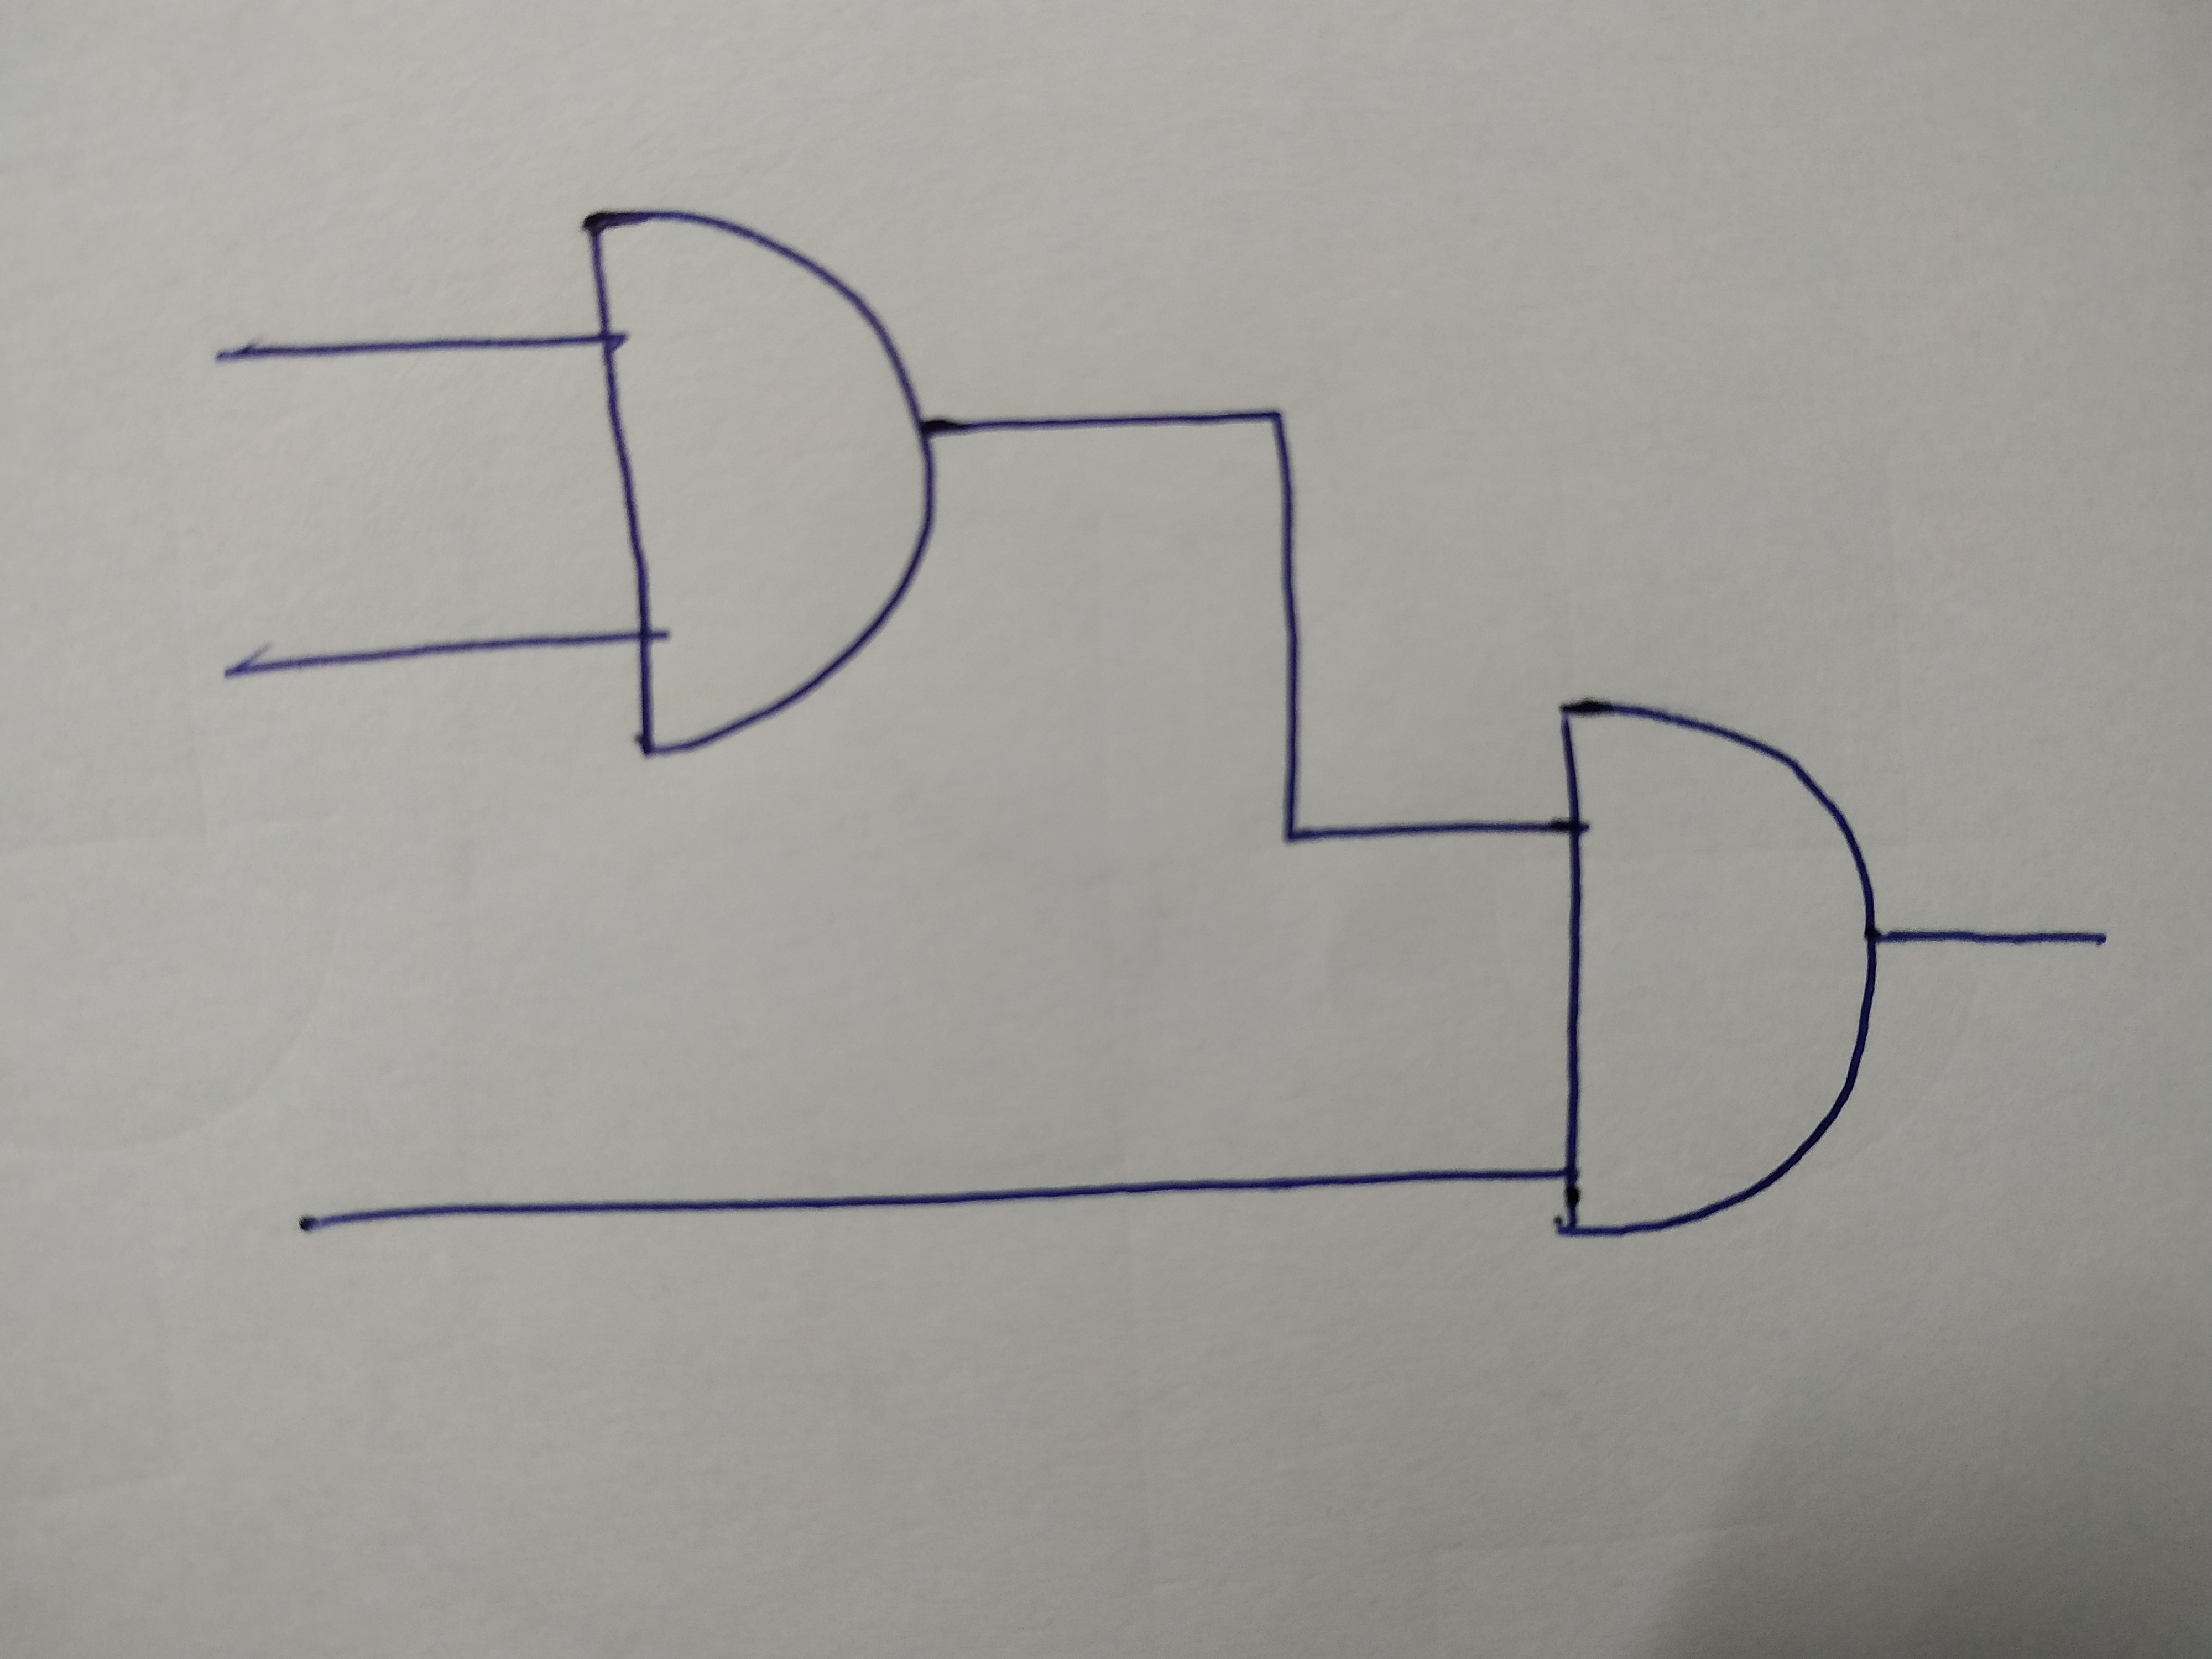and: (587, 206, 944, 758), (1555, 692, 1881, 1246)
